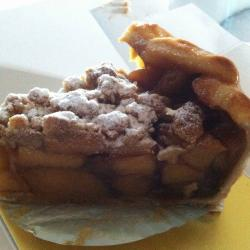apple_pie: (4, 21, 245, 217)
